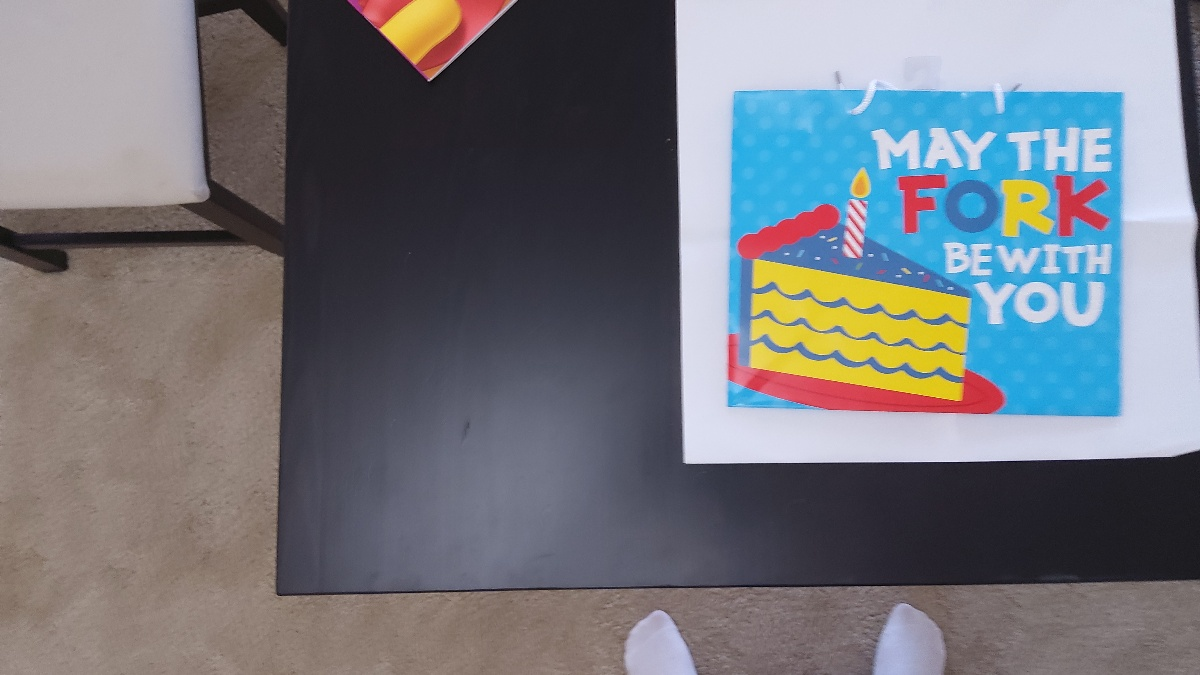paper_bag: (735, 90, 1123, 416)
